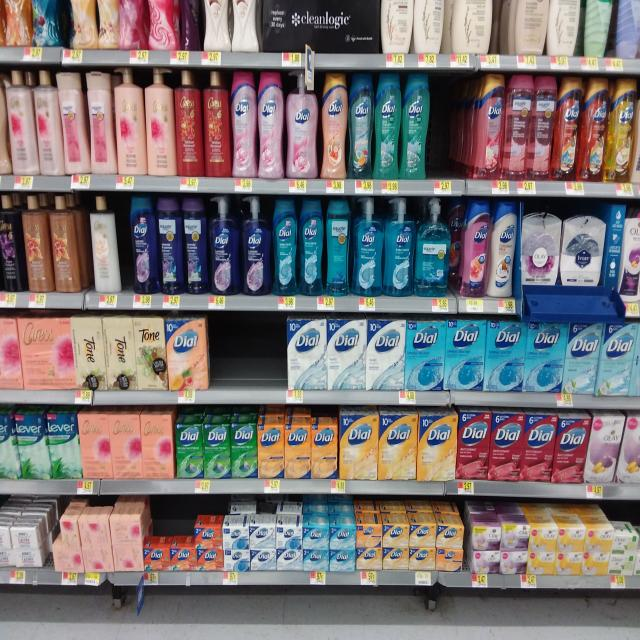void: (242, 306, 282, 416), (437, 73, 465, 198), (213, 316, 240, 410)
